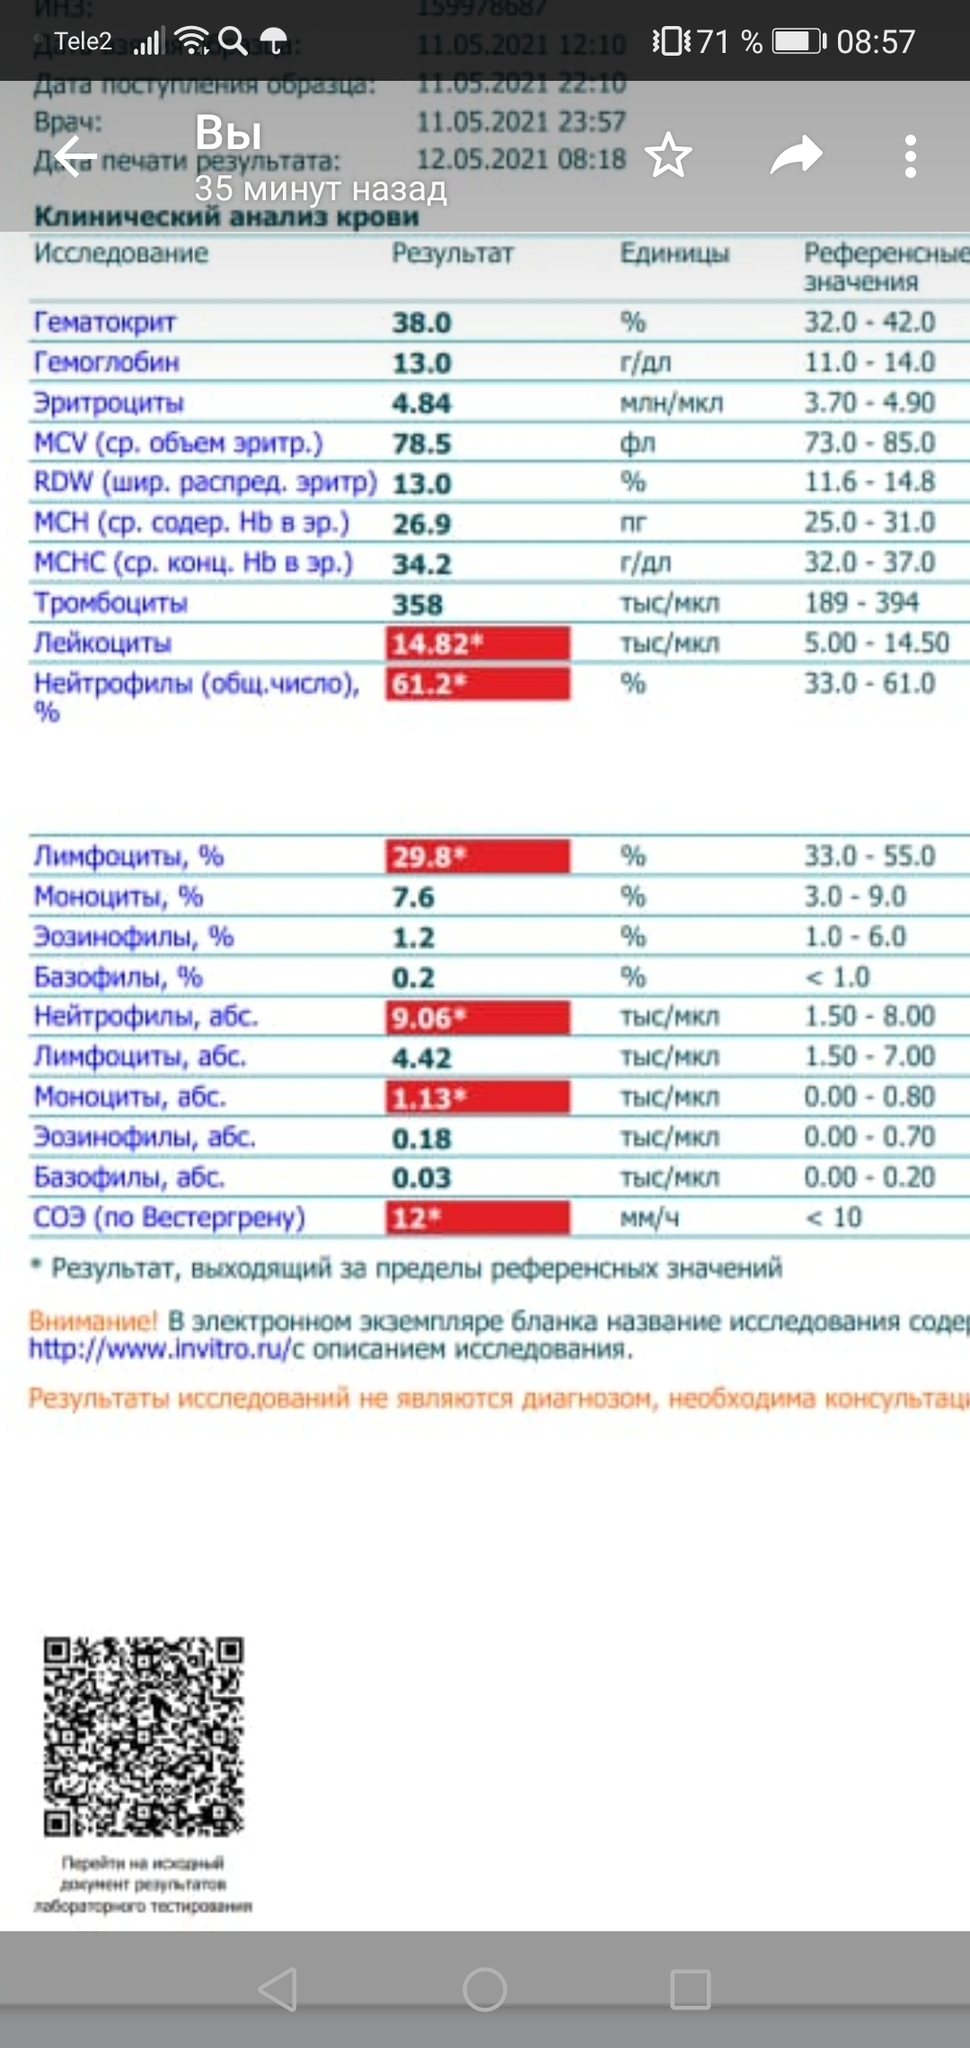column: (33, 234, 379, 1236), (803, 234, 970, 1236), (390, 234, 517, 1236), (618, 234, 732, 1236)
